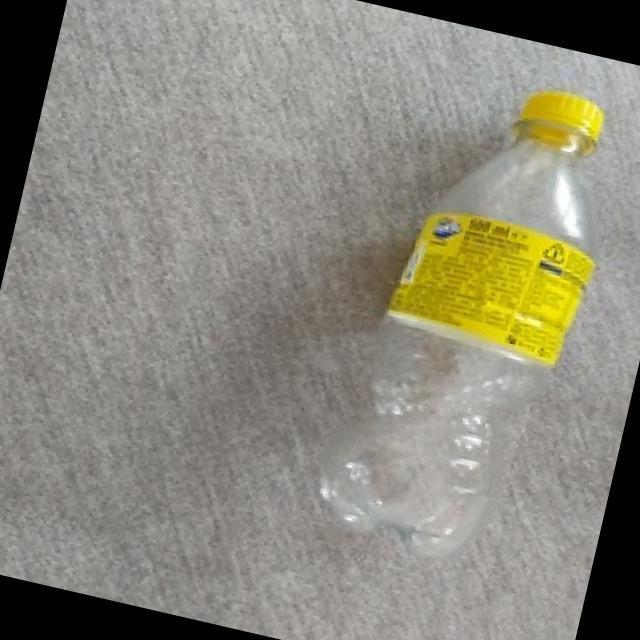good: (227, 23, 640, 630)
